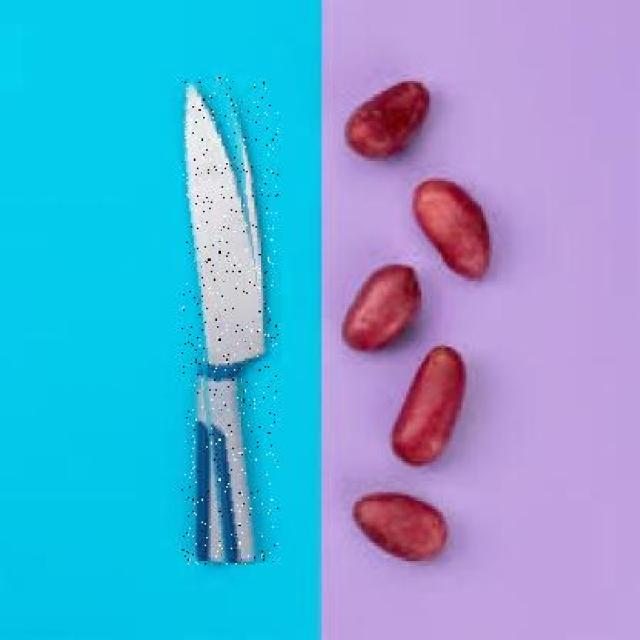knife: (182, 77, 278, 565)
